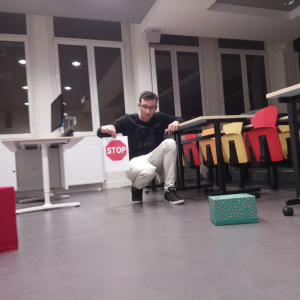stop: (105, 139, 129, 162)
